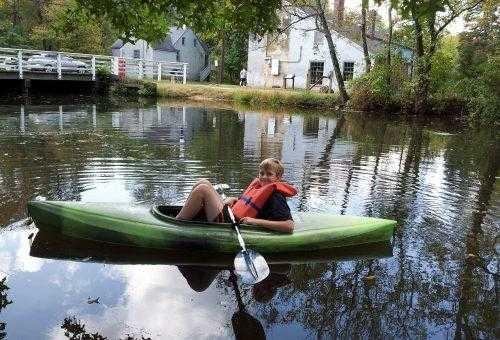kayak: (29, 198, 398, 254)
